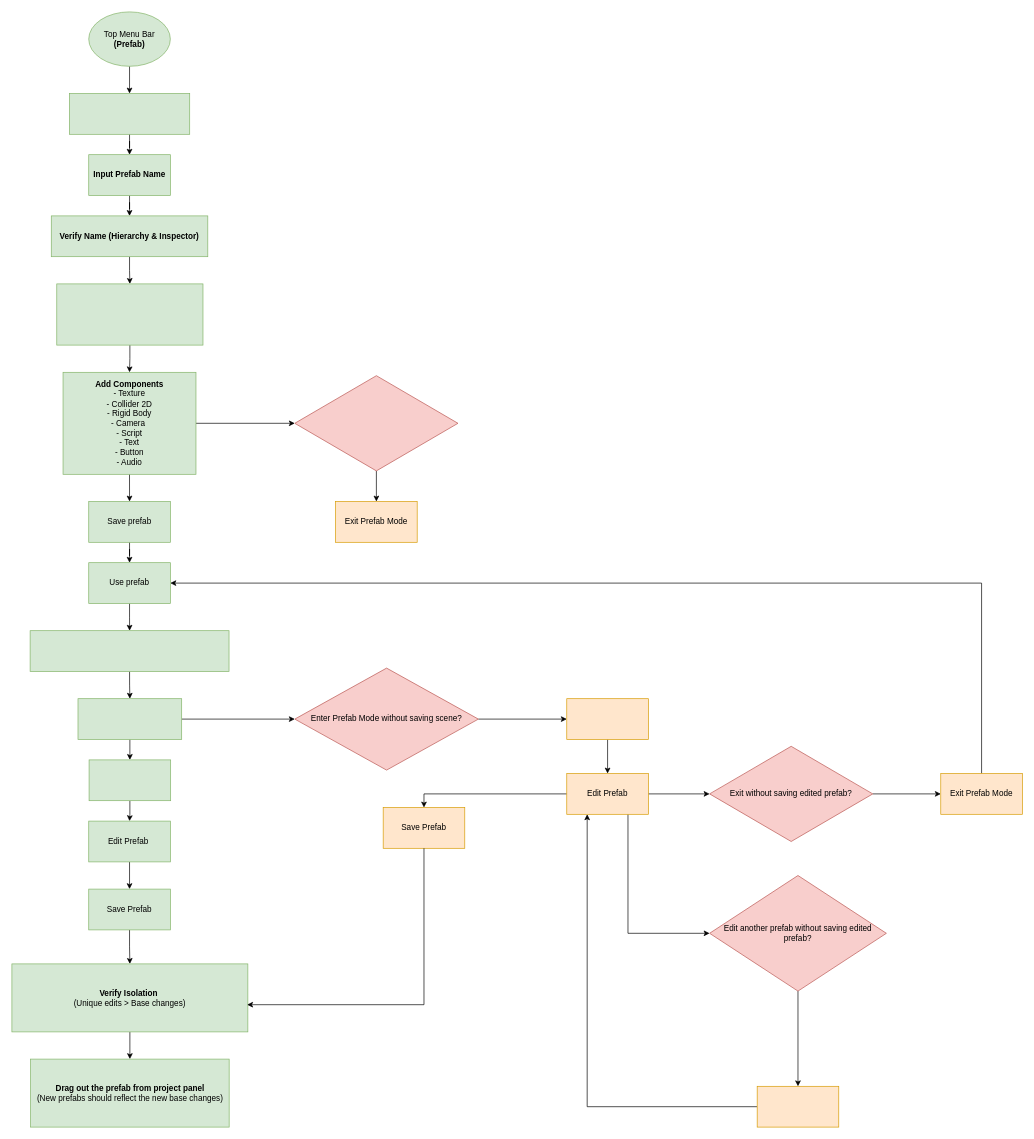
This 1034x1139 diagram has some shape labels left out. The centre of each missing label's shape, as x and y in pixels:
Default Transform (Pos X & Y: 0, Rot: 0, Scale X & Y: 100): the point at 129,314
Display selected prefab for editing: the point at 797,1106
Edit Instance (Unique): the point at 129,719
Enter Prefab Mode: the point at 607,719
Exit without saving new prefab?: the point at 376,423
Instantiate Prefab (Drag from Project panel to Scene View panel): the point at 129,651
Save scene: the point at 129,780
Select "Enter Prefab Mode": the point at 129,113
